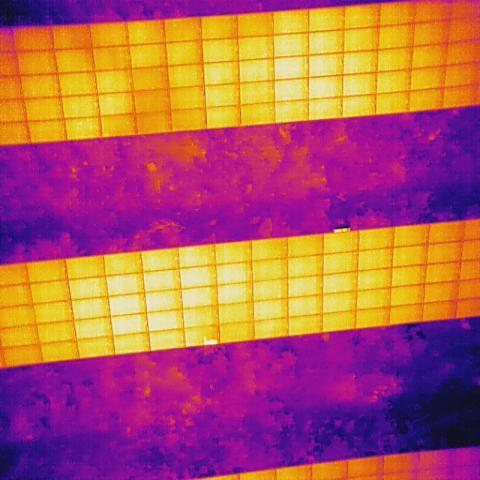fault: (202, 336, 218, 346)
